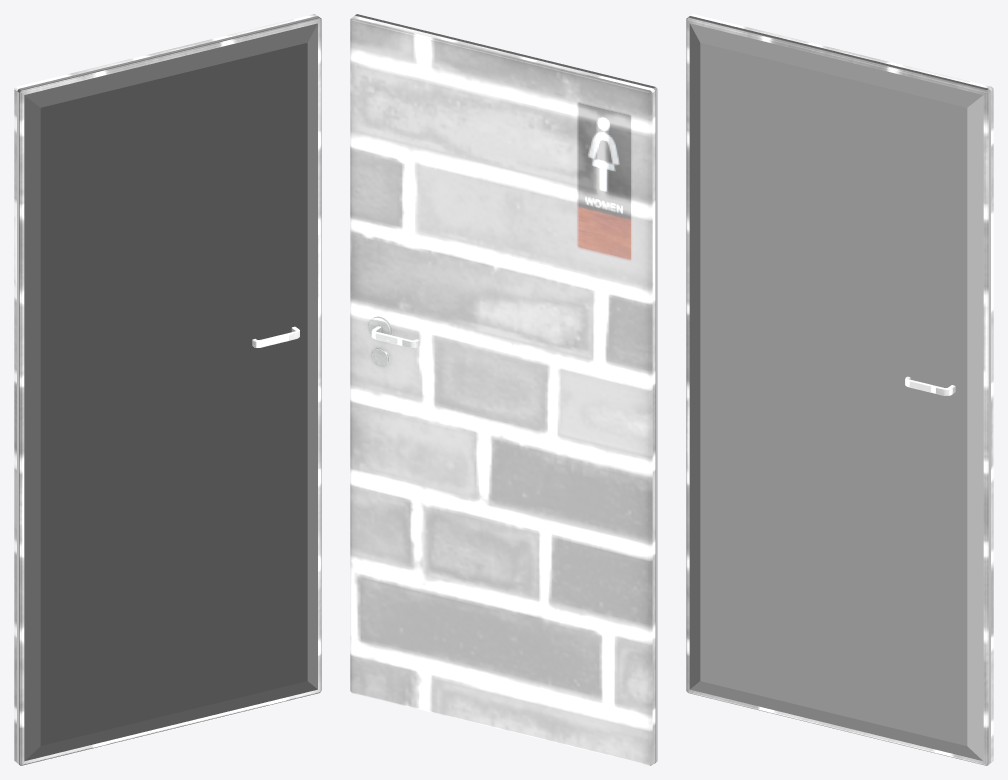
Rendered from SM_DoorOffice.fbx.
The picture shows the model from 3 angles, left to right: view 1: azimuth 30°, elevation 25°; view 2: azimuth 150°, elevation 25°; view 3: azimuth 330°, elevation 25°; orthographic projection.
Parts seen in each view (by area): view 1: SM_DoorOffice_ConvexHulls, SM_DoorOffice; view 2: SM_DoorOffice, SM_DoorOffice_ConvexHulls; view 3: SM_DoorOffice_ConvexHulls, SM_DoorOffice.
Part boxes in pixels (x1,y1,x2,y2): SM_DoorOffice_ConvexHulls: (17, 16, 321, 765); SM_DoorOffice: (14, 14, 321, 765); SM_DoorOffice: (350, 16, 655, 765); SM_DoorOffice_ConvexHulls: (355, 14, 657, 763); SM_DoorOffice_ConvexHulls: (686, 16, 990, 765); SM_DoorOffice: (686, 14, 993, 765).
Size of the model in its own units: 118 by 17.05 by 251.
2 materials, 1 textured.
